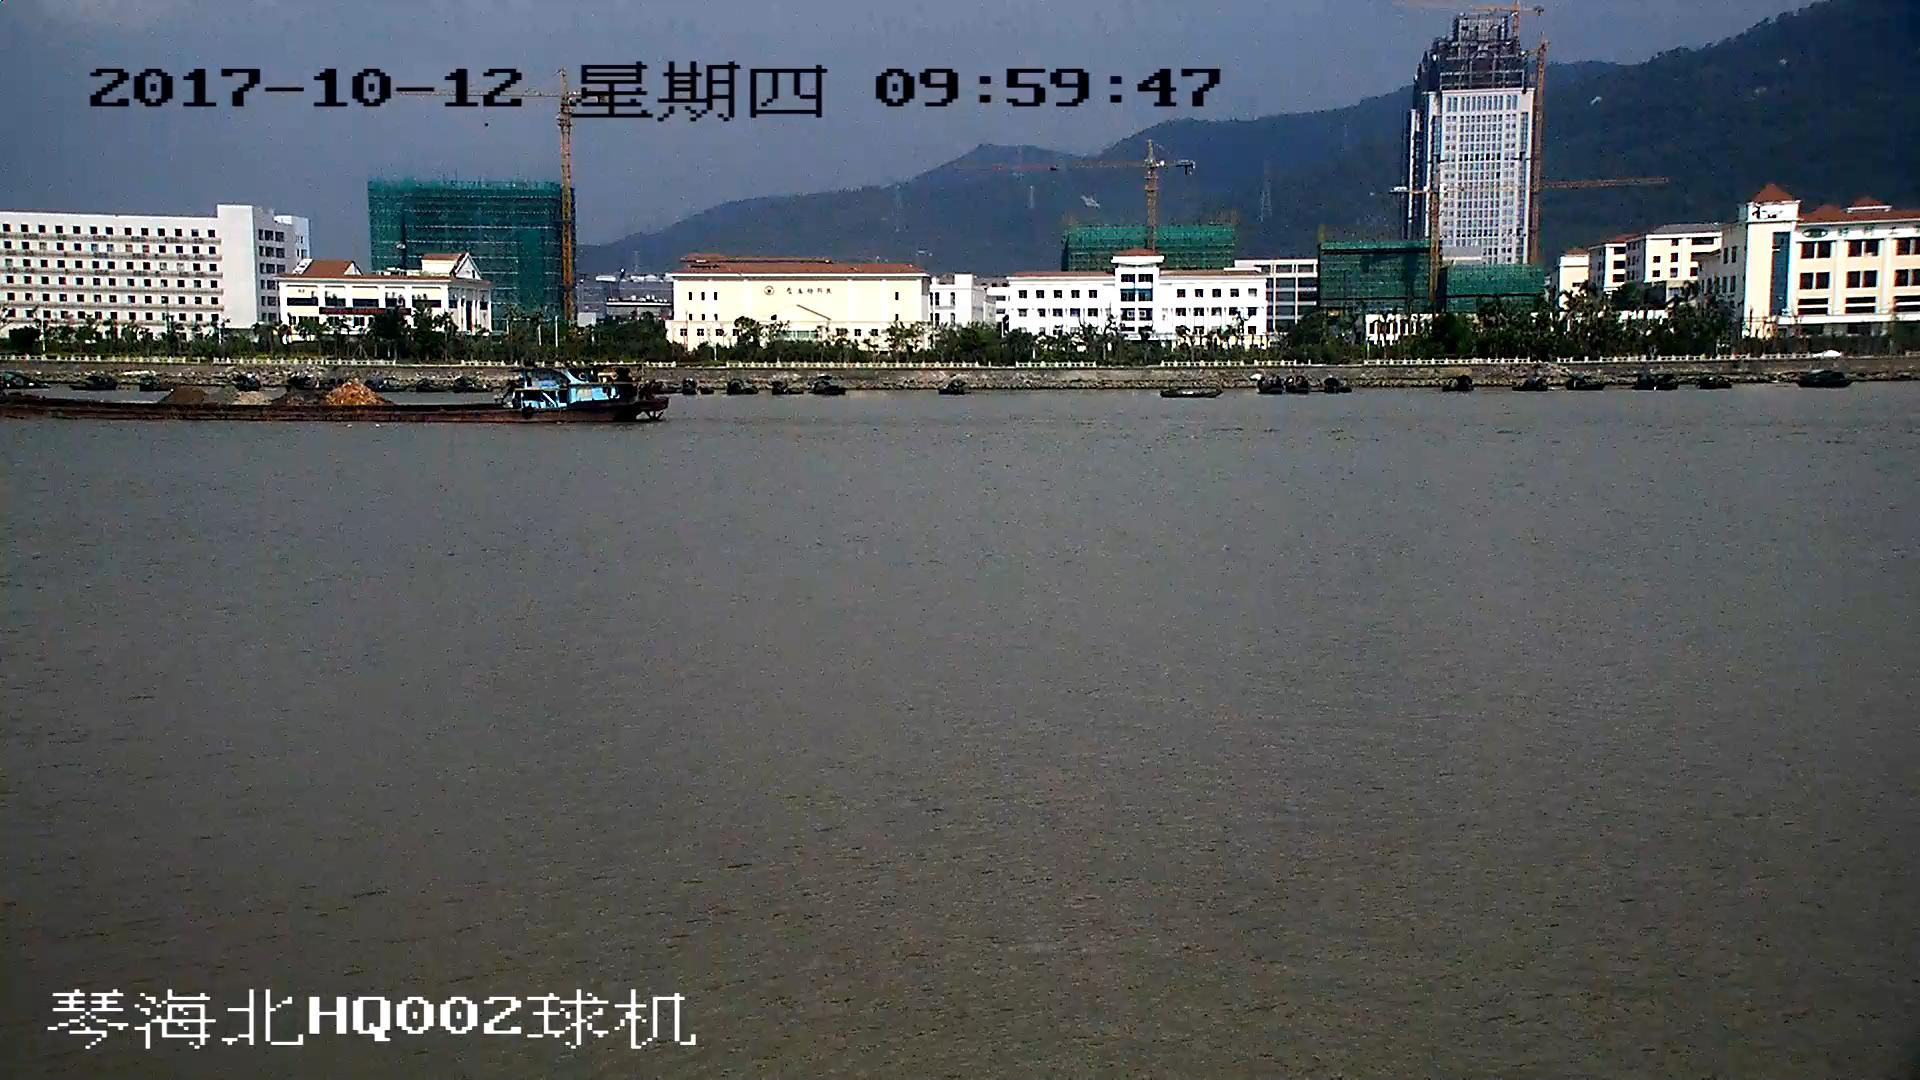ore carrier: (1, 352, 667, 422)
